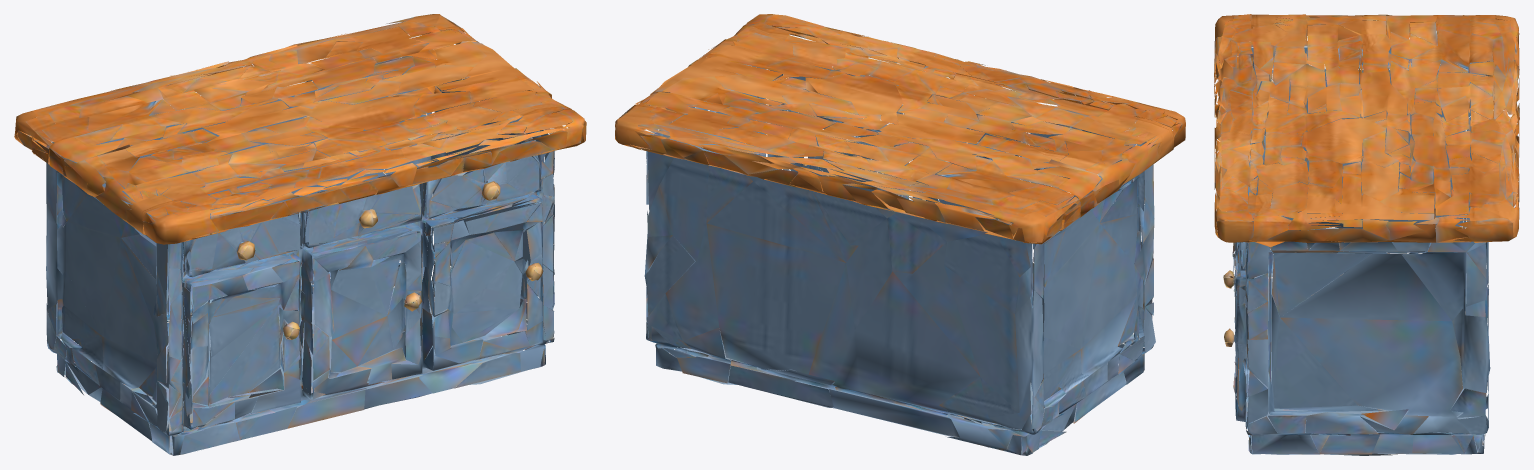
File: kitchen_island.glb
The picture shows the model from 3 angles, left to right: view 1: azimuth 30°, elevation 25°; view 2: azimuth 150°, elevation 25°; view 3: azimuth 270°, elevation 25°; orthographic projection.
Visible parts, largest first — view 1: kitchen_island; view 2: kitchen_island; view 3: kitchen_island.
Boxes of the visible parts, x1=… form: kitchen_island: x1=14, y1=14, x2=586, y2=455; kitchen_island: x1=615, y1=14, x2=1185, y2=455; kitchen_island: x1=1214, y1=14, x2=1519, y2=455.
Bounding box in the file's own units: 1.64 × 0.929 × 1.01.
1 material, 1 textured.
